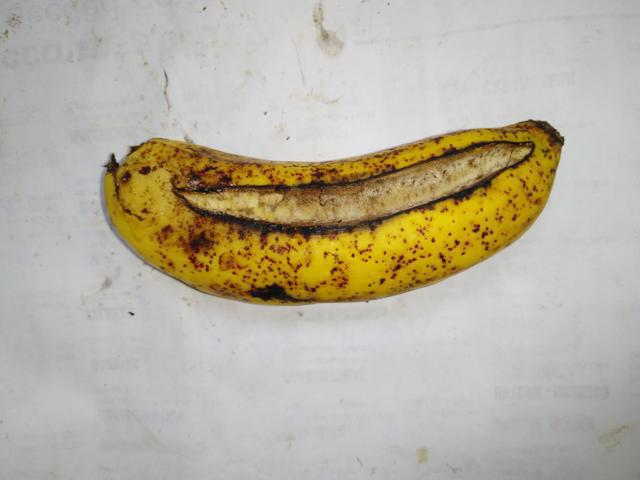ripe: (100, 93, 584, 328)
rotten: (176, 124, 539, 250)
